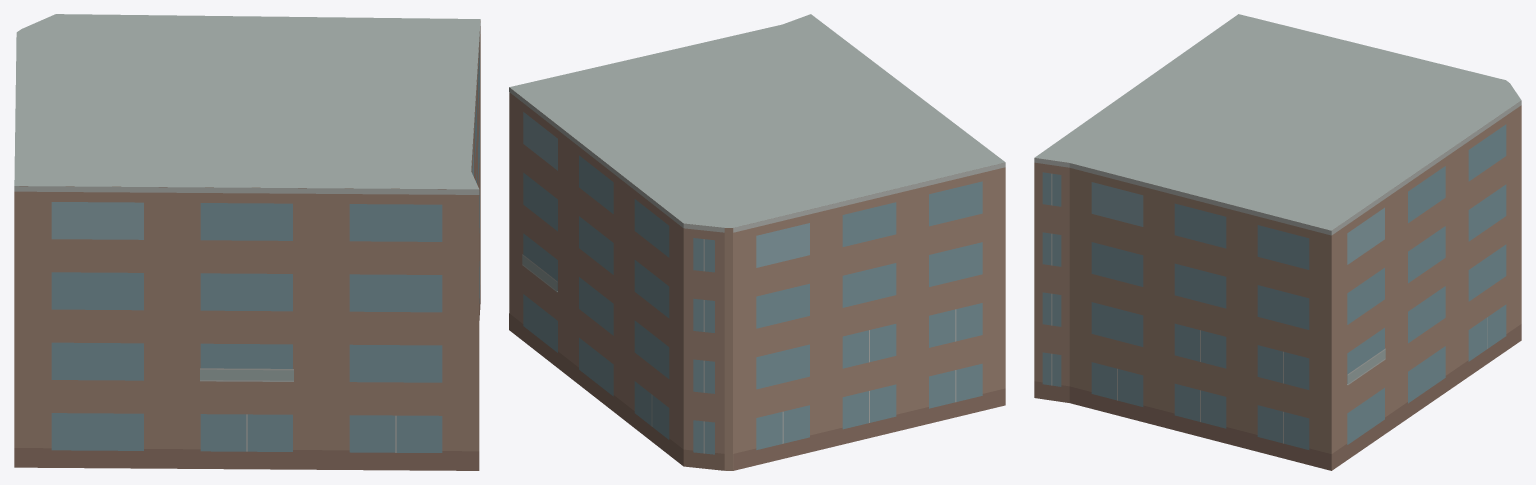
The model's file is survey-upis-32647120.glb.
The picture shows the model from 3 angles, left to right: view 1: azimuth 30°, elevation 25°; view 2: azimuth 150°, elevation 25°; view 3: azimuth 270°, elevation 25°; orthographic projection. The views are drawn at different scales.
Visible parts, largest first — view 1: survey-upis-32647120.tmp; view 2: survey-upis-32647120.tmp; view 3: survey-upis-32647120.tmp.
Part boxes in pixels (box(x1,y1,x2,y2)): survey-upis-32647120.tmp: box(14, 14, 480, 470); survey-upis-32647120.tmp: box(509, 14, 1005, 470); survey-upis-32647120.tmp: box(1034, 14, 1521, 470).
Bounding box in the file's own units: 23.62 × 12.2 × 22.44.
